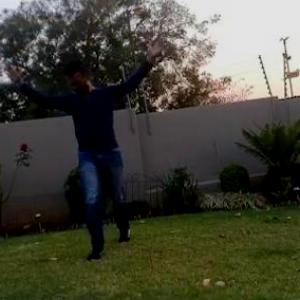takeoff: (1, 32, 164, 255)
